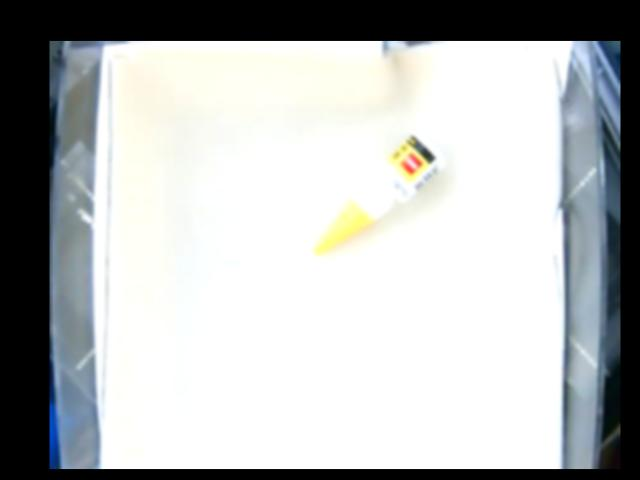Bottle: (315, 133, 444, 258)
